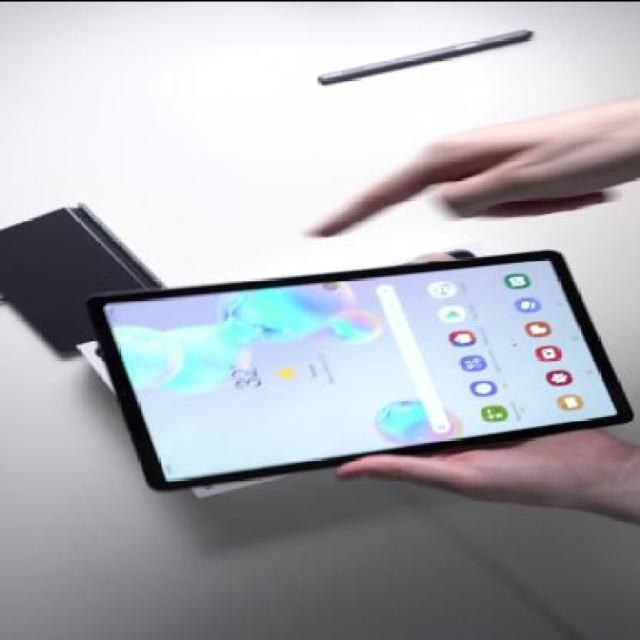smart phone: (83, 265, 638, 451)
